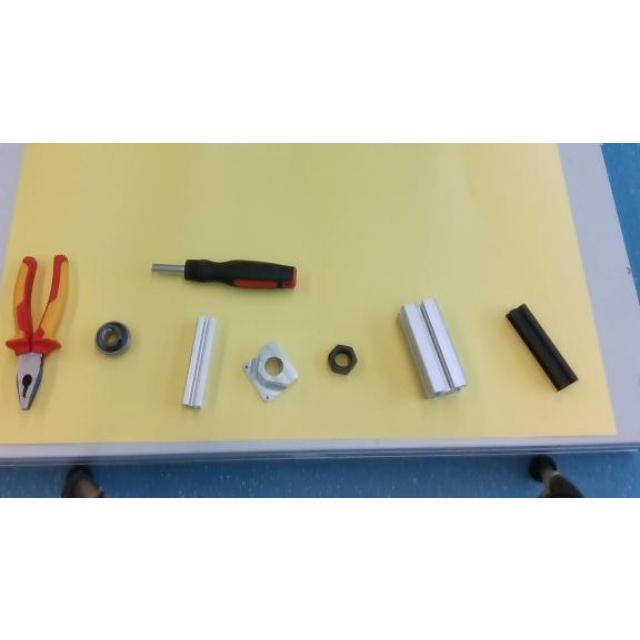Bearing2: (94, 321, 130, 353)
F20_20_B: (507, 303, 577, 389)
F20_20_G: (181, 314, 217, 408)
M20: (327, 344, 358, 374)
S40_40_G: (398, 298, 468, 397)
